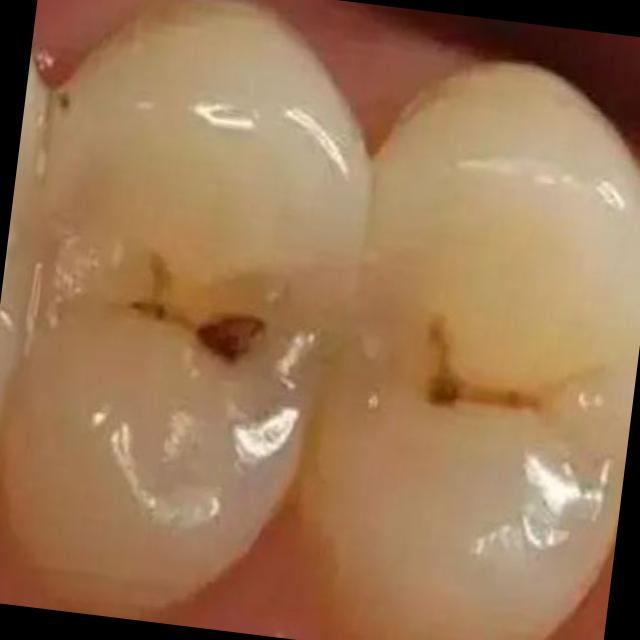Caries: (423, 315, 545, 417), (196, 313, 266, 367), (128, 300, 167, 323)
Tooth: (0, 0, 374, 614), (297, 58, 640, 640)
